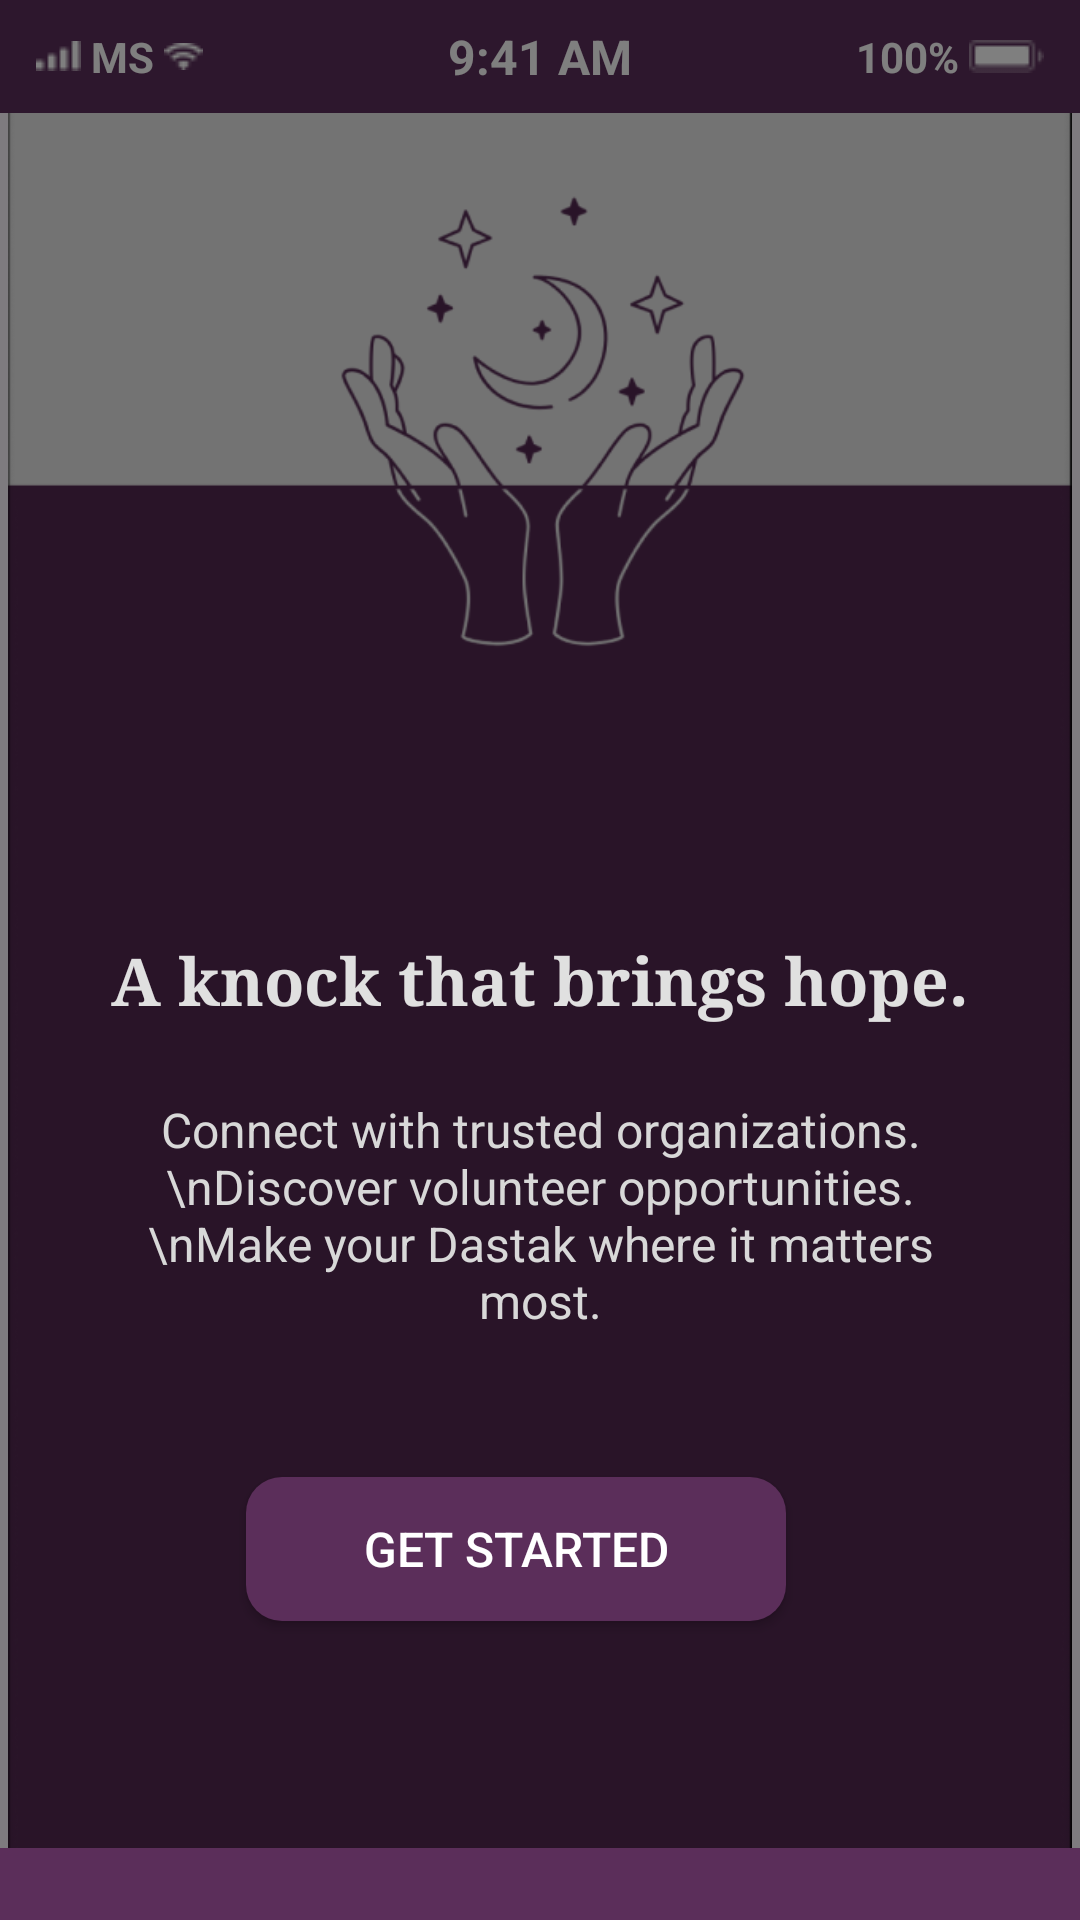

Screen size 1080px x 1920px. Icon name, then its center in pixels as point (x, y):
battery: point (1006, 55)
mobilesignal: point (58, 56)
wifi: point (183, 56)
